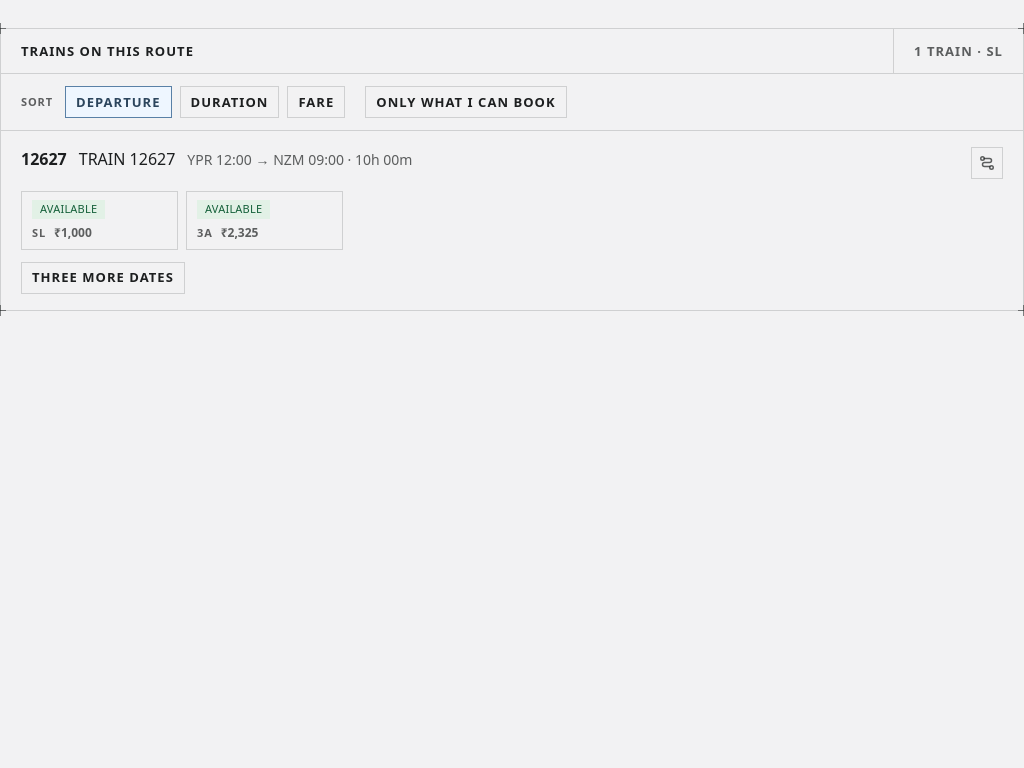
Test: opening a row › says which class the dates belong to, and follows the one the reader picks
The image size is (1024, 768).
Click the button "Three more dates": [103, 278] box 21,262 -> 185,294
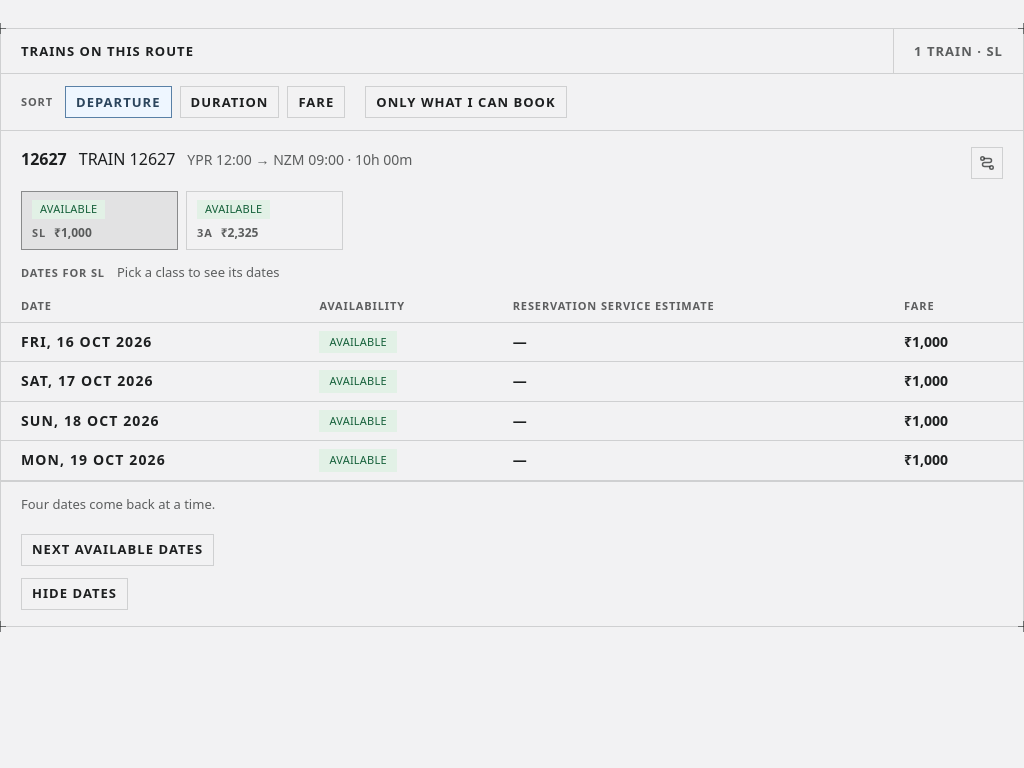
Now the text "Dates for SL" is shown, box 21,264 -> 105,280
# And the reader is not stuck with it: the cards are the control.
Click the button "AVAILABLE 3A ₹2,325": [264, 220] box 186,191 -> 343,250
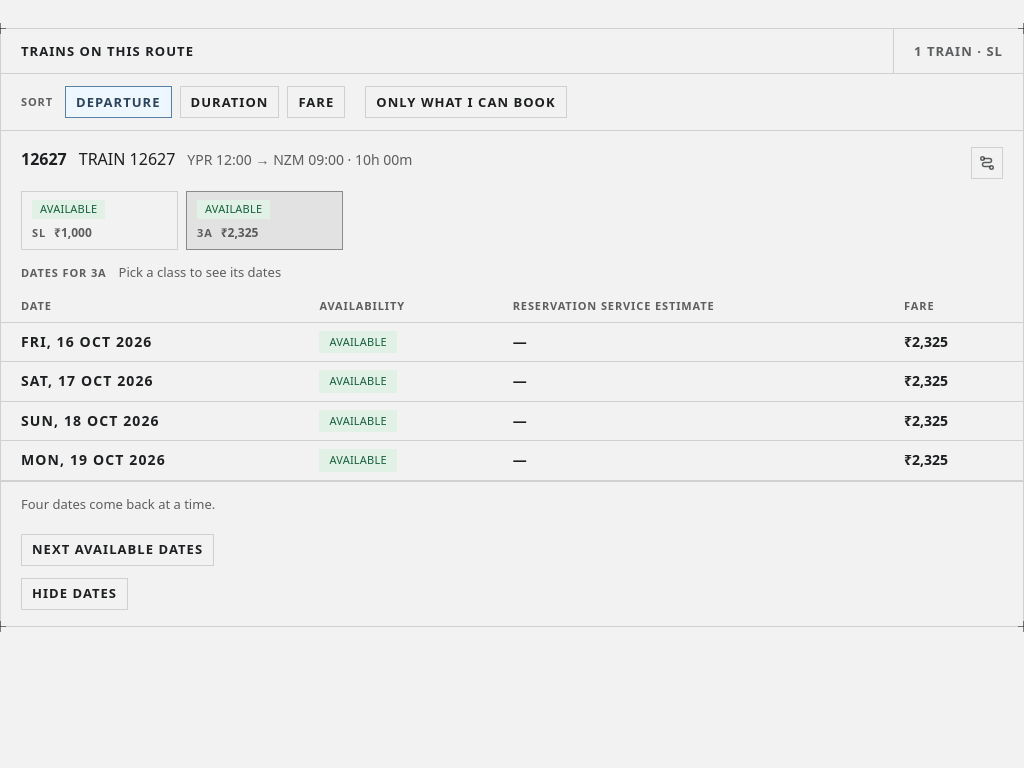
Now the text "Dates for 3A" is shown, box 21,264 -> 106,280
Now the text "Dates for SL" is gone
